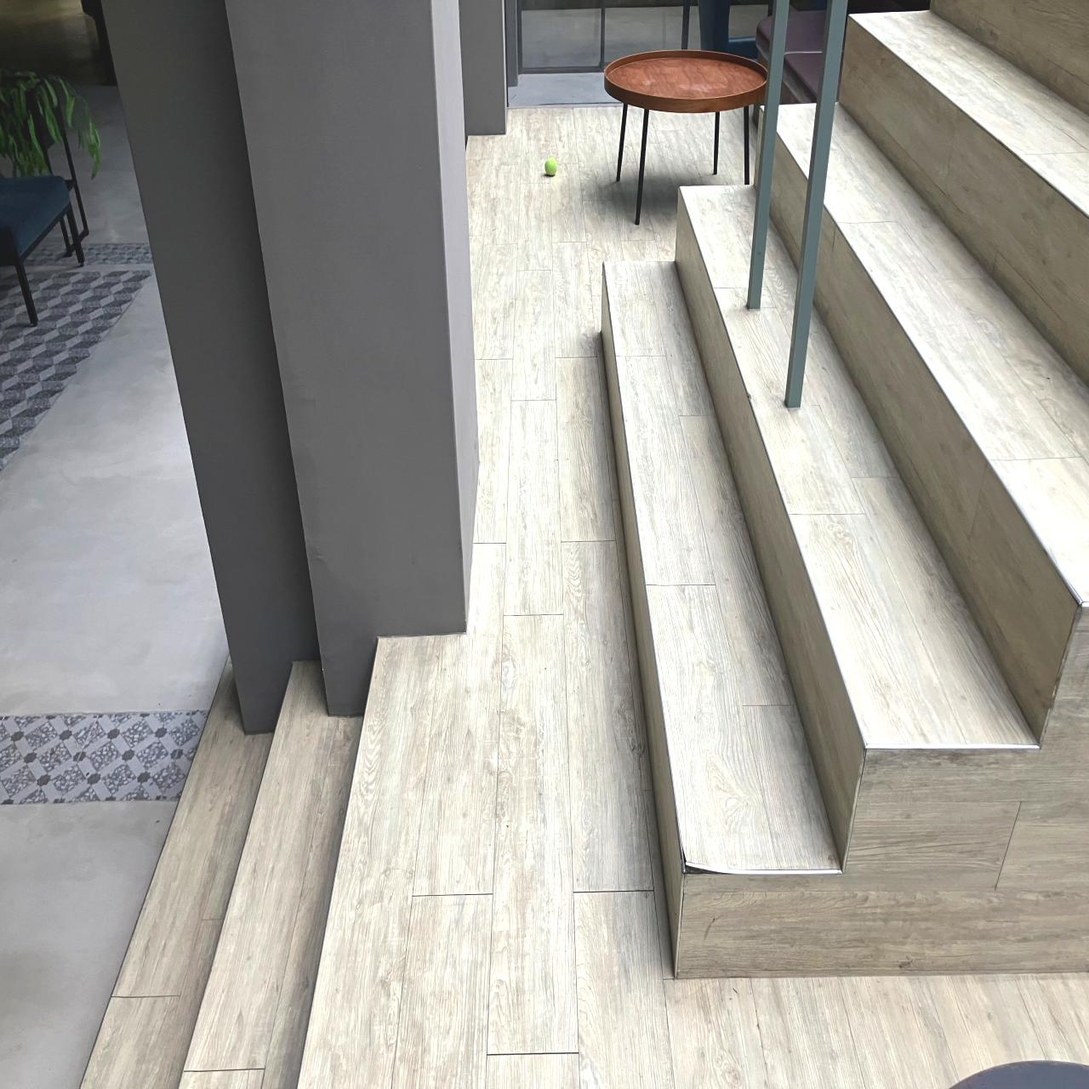tennisball: (544, 157, 557, 176)
